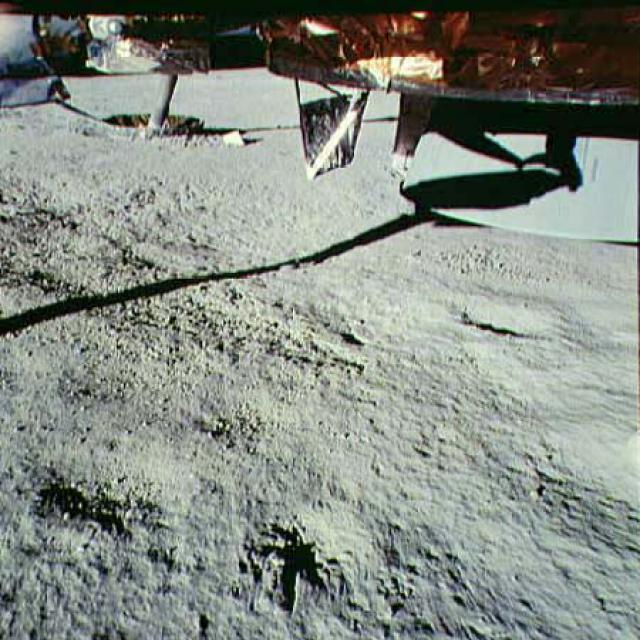crater: (28, 460, 226, 538), (442, 273, 575, 358)
